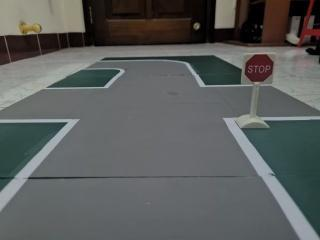stop: (242, 50, 281, 89)
